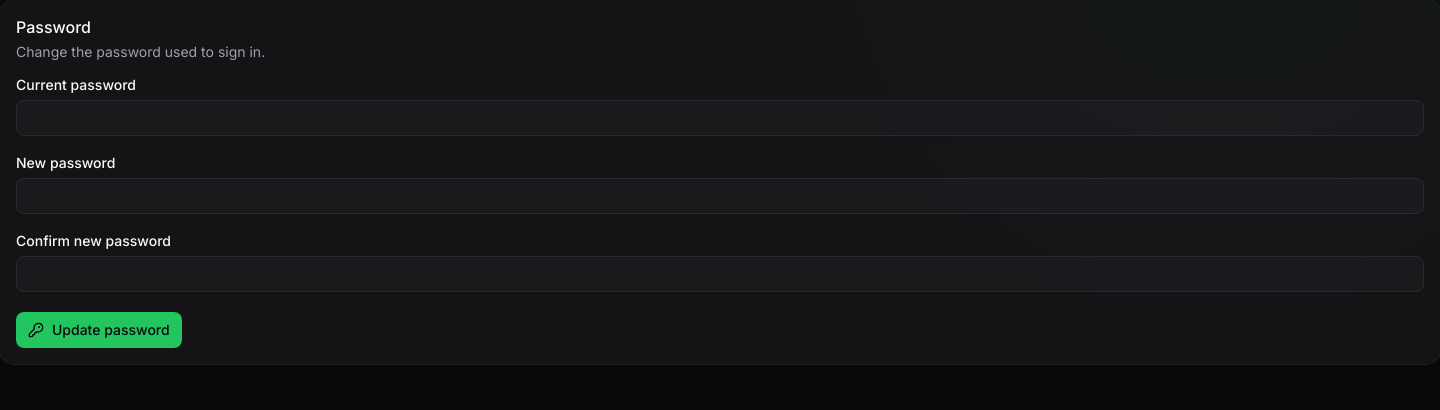
Test: PasswordForm › blocks submission when confirmation does not match
The width and height of the screenshot is (1440, 410).
Type "OldPass1!" into the password field labelled "Current password" at (720, 118), box x1=16 y1=100 x2=1424 y2=136
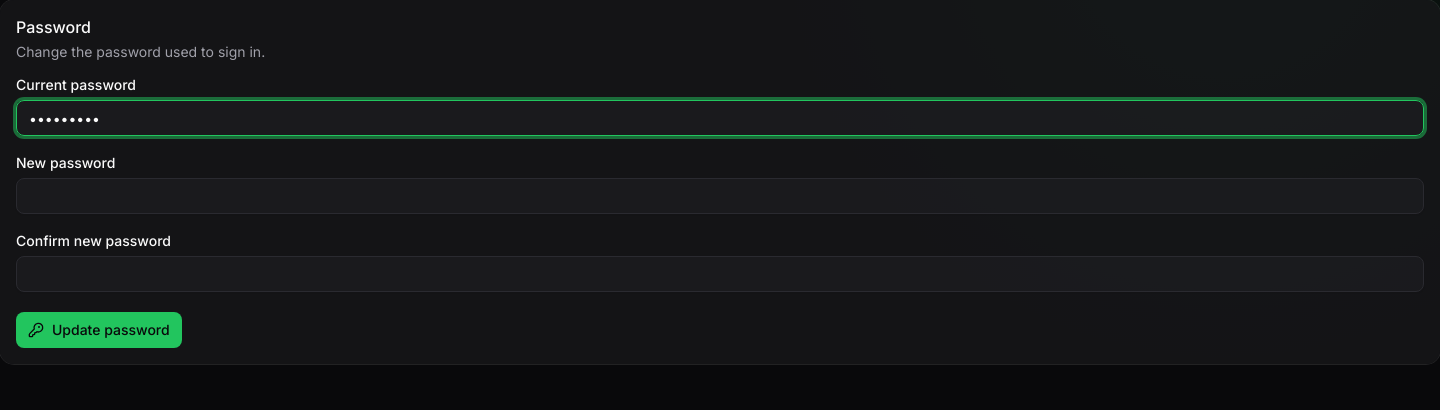
Type "NewPass1!" into the password field labelled "New password" at (720, 196), box x1=16 y1=178 x2=1424 y2=214
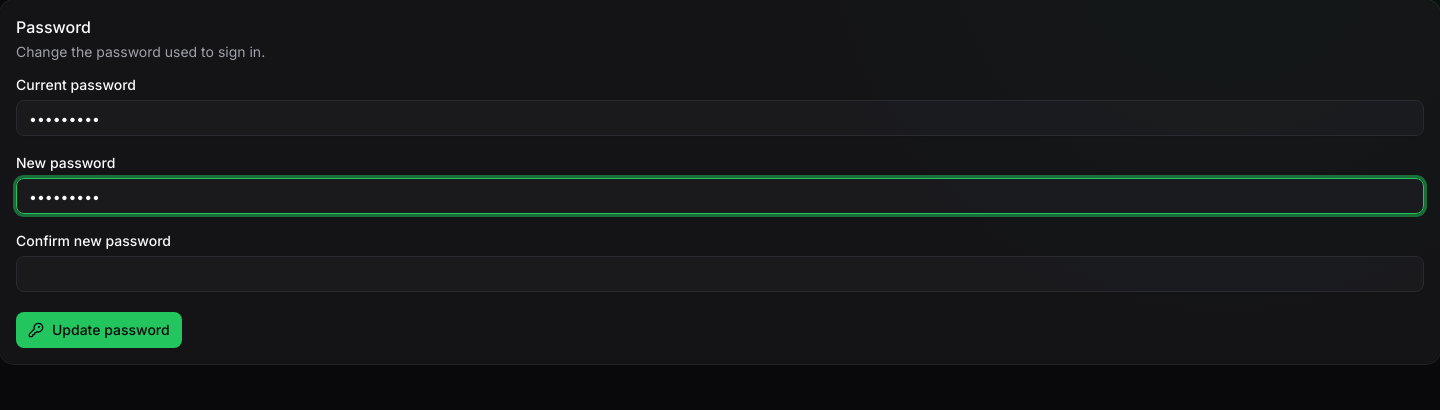
Type "Different1!" into the password field labelled "Confirm new password" at (720, 274), box x1=16 y1=256 x2=1424 y2=292
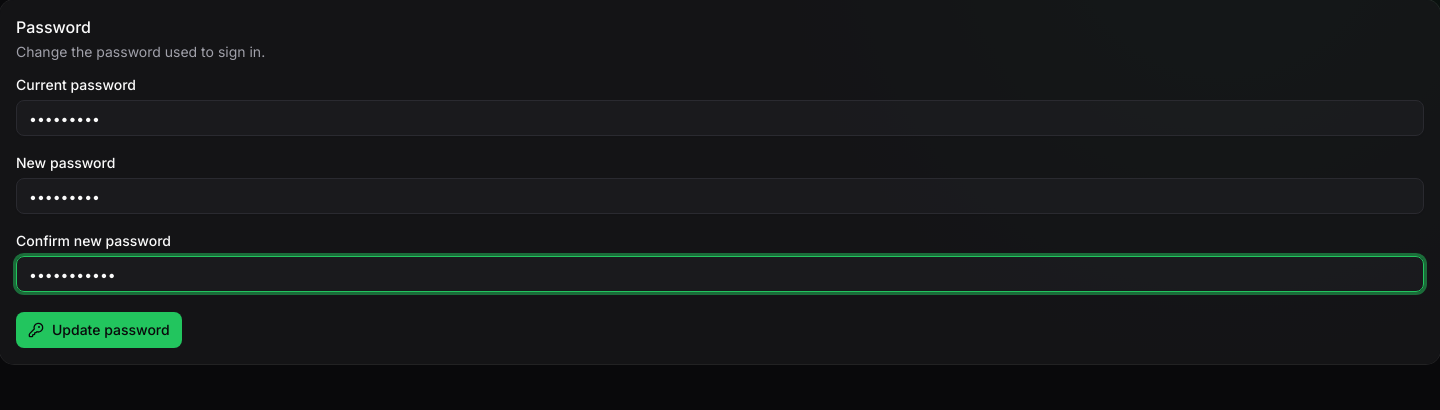
Click the button "Update password" at (99, 330), box x1=16 y1=312 x2=182 y2=348
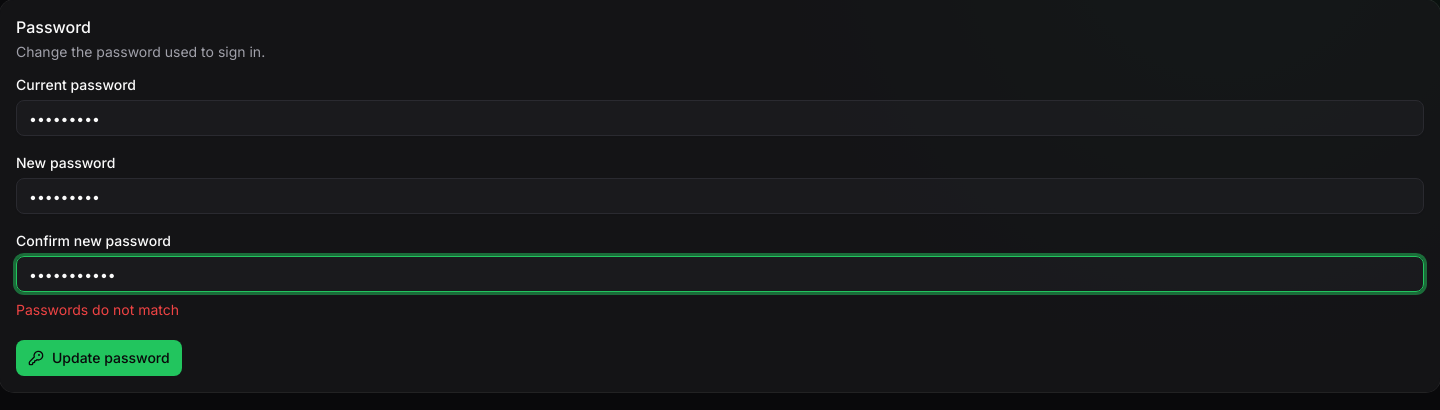
Expected: the text "Passwords do not match" is shown, x1=16 y1=301 x2=179 y2=318
